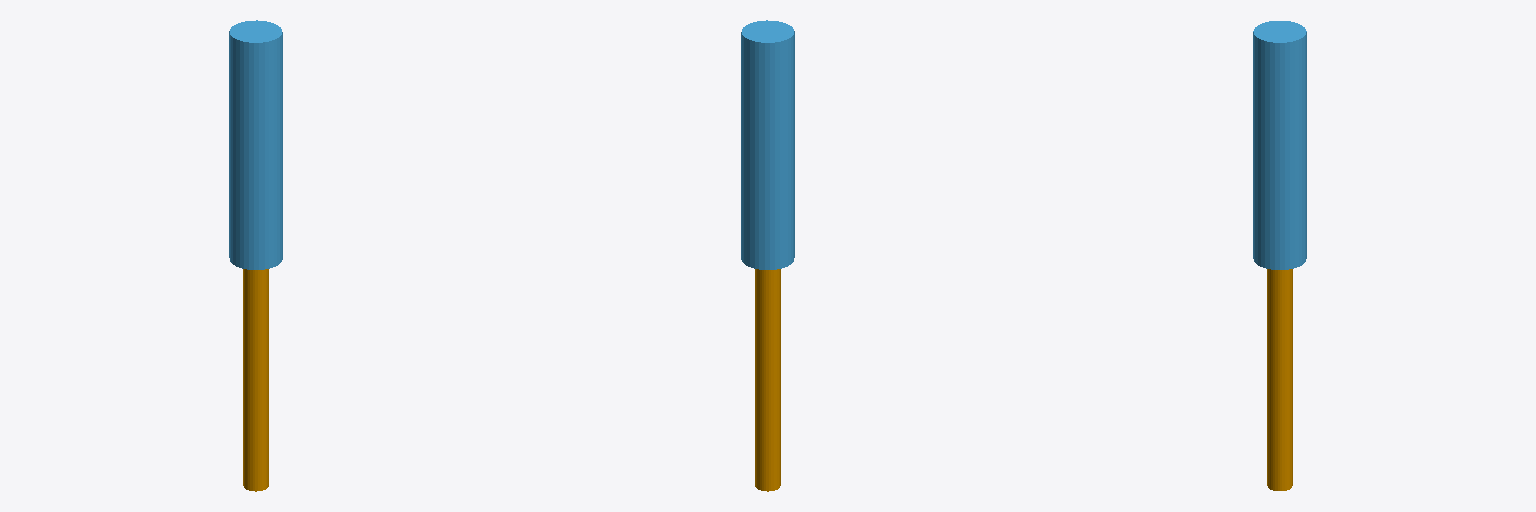
robot.urdf — screwdriver_on_the_table:
<?xml version="1.0" ?>
<!-- this is the one without any virtual joints and links -->
<robot name="screwdriver_on_the_table">
<link name="screwdriver_stick">
    <inertial>
      <mass value="0.05"/>
      <!-- <friction value="1.0"/> -->
      <inertia ixx="0.000041979" ixy="0.0" ixz="0.0" iyy="0.000041979" iyz="0.0" izz="0.000000625"/>
    </inertial>
    <visual>
        <origin rpy="0 0 0" xyz="0 0 0.05"/>
        <geometry>
            <cylinder radius="0.005" length="0.1"/>
        </geometry>
        <!-- <material name="White">
	 	    <color rgba="0.9 0.9 0.9 0.5"/>
        </material> -->
    </visual>
    <collision>
        <origin rpy="0 0 0" xyz="0 0 0.05"/>
        <geometry>
            <cylinder radius="0.005" length="0.1"/>
        </geometry>
    </collision>
</link>

<gazebo reference="screwdriver_body">
    <mu1>1.0</mu1>
    <mu2>1.0</mu2>
    <!-- Isaac Sim maps mu1/mu2 to PhysX static/dynamic friction during URDF→USD import -->
</gazebo>

<joint name="screwdriver_stick_body_joint" type="fixed">
    <parent link="screwdriver_stick"/>
    <child link="screwdriver_body"/>
    <origin rpy="0 0 0" xyz="0 0 0.1"/> 
    <axis xyz="0 0 1"/>
</joint>

<link name="screwdriver_body">
    <inertial>
      <mass value="0.1"/>
      <inertia ixx="0.000086140" ixy="0.0" ixz="0.0" iyy="0.000086140" iyz="0.0" izz="0.000010000"/>
    </inertial>
    <visual>
        <origin rpy="0 0 0" xyz="0 0 0.05"/>
        <geometry>
            <cylinder radius="0.010596" length="0.1"/>
        </geometry>
        <!-- <material name="Red1">
	 	    <color rgba="0.9 0. 0. 0.5"/>
        </material> -->
    </visual>
    <collision>
        <origin rpy="0 0 0" xyz="0 0 0.05"/>
        <geometry>
            <cylinder radius="0.010596" length="0.1"/>
        </geometry>
    </collision>
</link>

<!-- <joint name="screwdriver_body_cap_joint" type="revolute">
    <parent link="screwdriver_body"/>
    <child link="screwdriver_cap"/>
    <origin rpy="0 0 0" xyz="0 0 0.1"/> 
    <axis xyz="0 0 1"/>
</joint>

<link name="screwdriver_cap">
    <inertial>
      <mass value="0.005"/>
      <inertia ixx="0.00001" ixy="0.0" ixz="0.0" iyy="0.000005" iyz="0.0" izz="0.000005"/>
    </inertial>
    <visual>
        <origin rpy="0 0 0" xyz="0 0 0.0006"/>
        <geometry>
            <cylinder radius="0.02" length="0.001"/>
        </geometry>
        <material name="Yellow">
	 	    <color rgba="0.9 0.9 0. 1.0"/>
        </material>
    </visual>
    <collision>
        <origin rpy="0 0 0" xyz="0 0 0.0005"/>
        <geometry>
            <cylinder radius="0.02" length="0.001"/>
        </geometry>
    </collision>
</link> -->

</robot>

--- What the picture shows (computed from the rendered views, not written in the file) ---
The picture shows the robot from 3 angles, left to right: view 1: azimuth 30°, elevation 25°; view 2: azimuth 150°, elevation 25°; view 3: azimuth 270°, elevation 25°; orthographic projection.
Robot: screwdriver_on_the_table — 2 links, 1 joints (1 fixed); root link screwdriver_stick; default pose: every joint at zero.
Links seen in each view (by area): view 1: screwdriver_body, screwdriver_stick; view 2: screwdriver_body, screwdriver_stick; view 3: screwdriver_body, screwdriver_stick.
Boxes of the visible links, x1,y1,x2,y2 form: screwdriver_body: (229,20,282,269); screwdriver_stick: (243,269,268,491); screwdriver_body: (741,20,794,269); screwdriver_stick: (755,269,780,491); screwdriver_body: (1253,21,1306,269); screwdriver_stick: (1267,269,1292,490).
Size in the robot's own frame: 0.0212 by 0.0212 by 0.2 metres.
Geometry: primitives only (box / cylinder / sphere), no mesh files.
